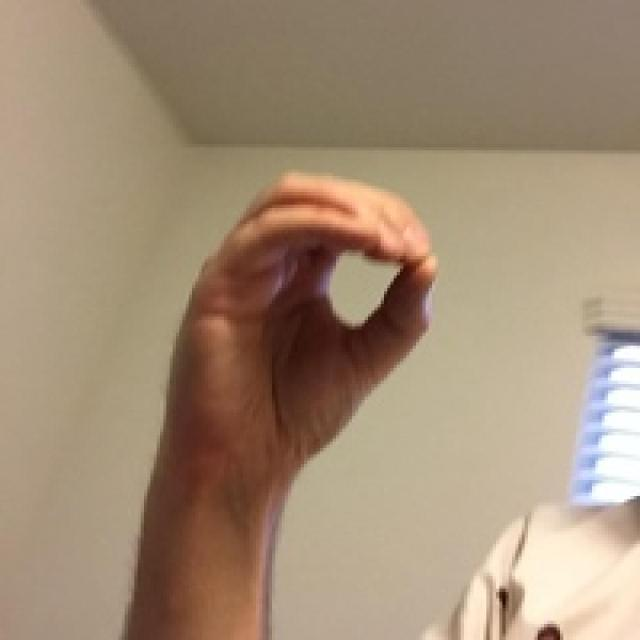O: (102, 122, 470, 523)
